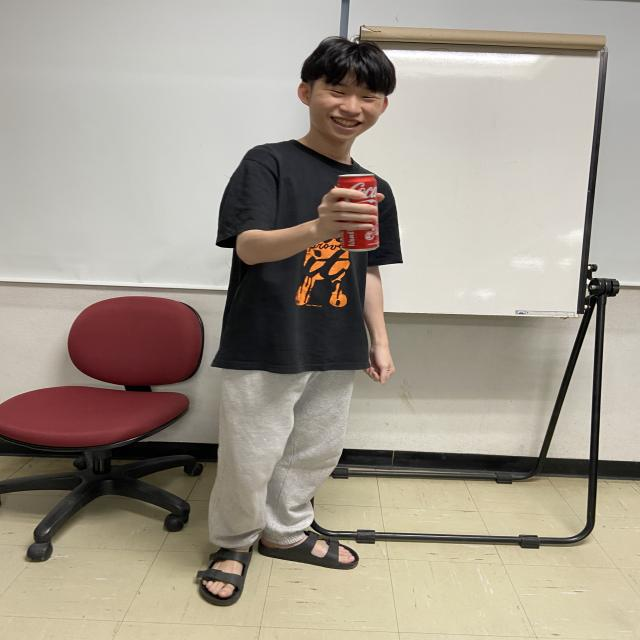can: (334, 173, 381, 252)
